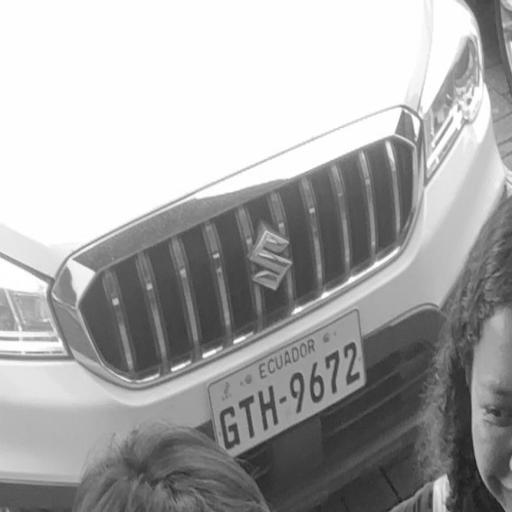license_plate: (209, 311, 366, 455)
